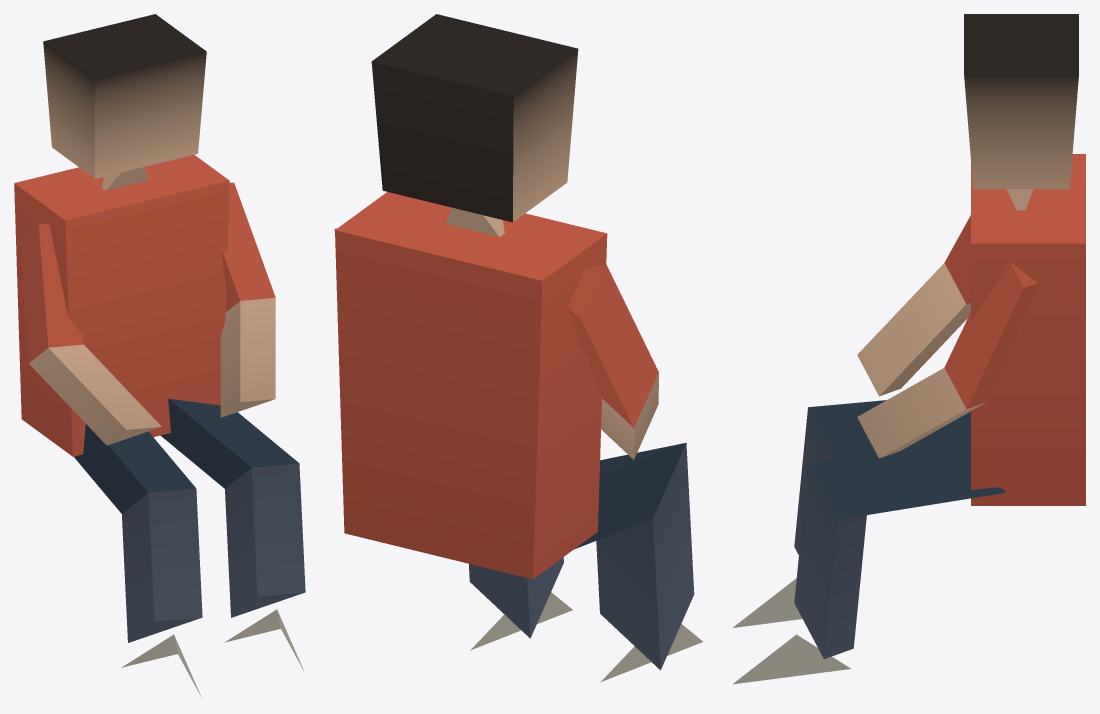
The model's file is fan-01.glb.
3 views of the same model, side by side, from view 1: azimuth 30°, elevation 25°; view 2: azimuth 150°, elevation 25°; view 3: azimuth 270°, elevation 25° (orthographic). The views are drawn at different scales.
Parts seen in each view (by area): view 1: fan-01; view 2: fan-01; view 3: fan-01.
Boxes of the visible parts, left/top/right/bottom form: fan-01: left=14, top=14, right=305, bottom=697; fan-01: left=334, top=14, right=702, bottom=682; fan-01: left=733, top=14, right=1085, bottom=684.
Bounding box in the file's own units: 0.6675 × 1.47 × 0.77.
